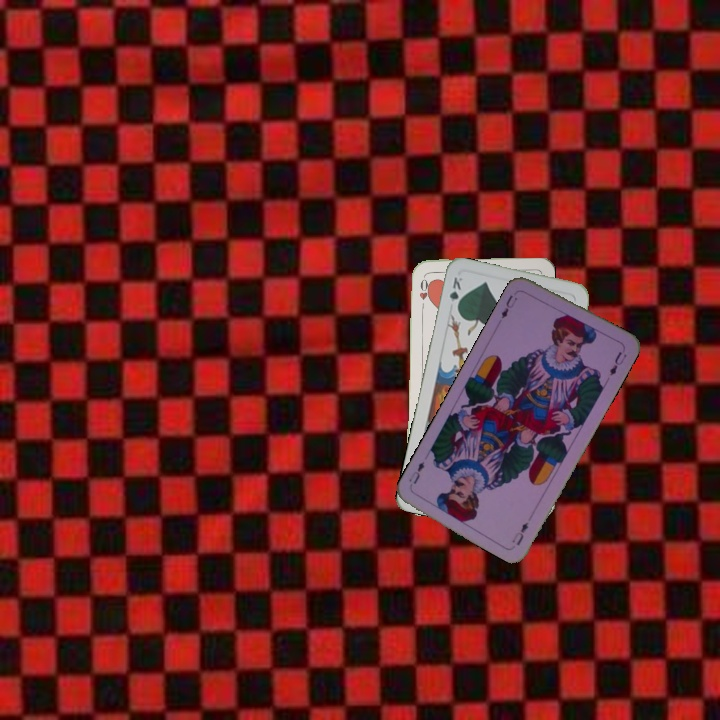EU: (497, 291, 520, 321), (508, 518, 531, 548)
GK: (445, 273, 465, 313)
HO: (415, 272, 429, 313)
